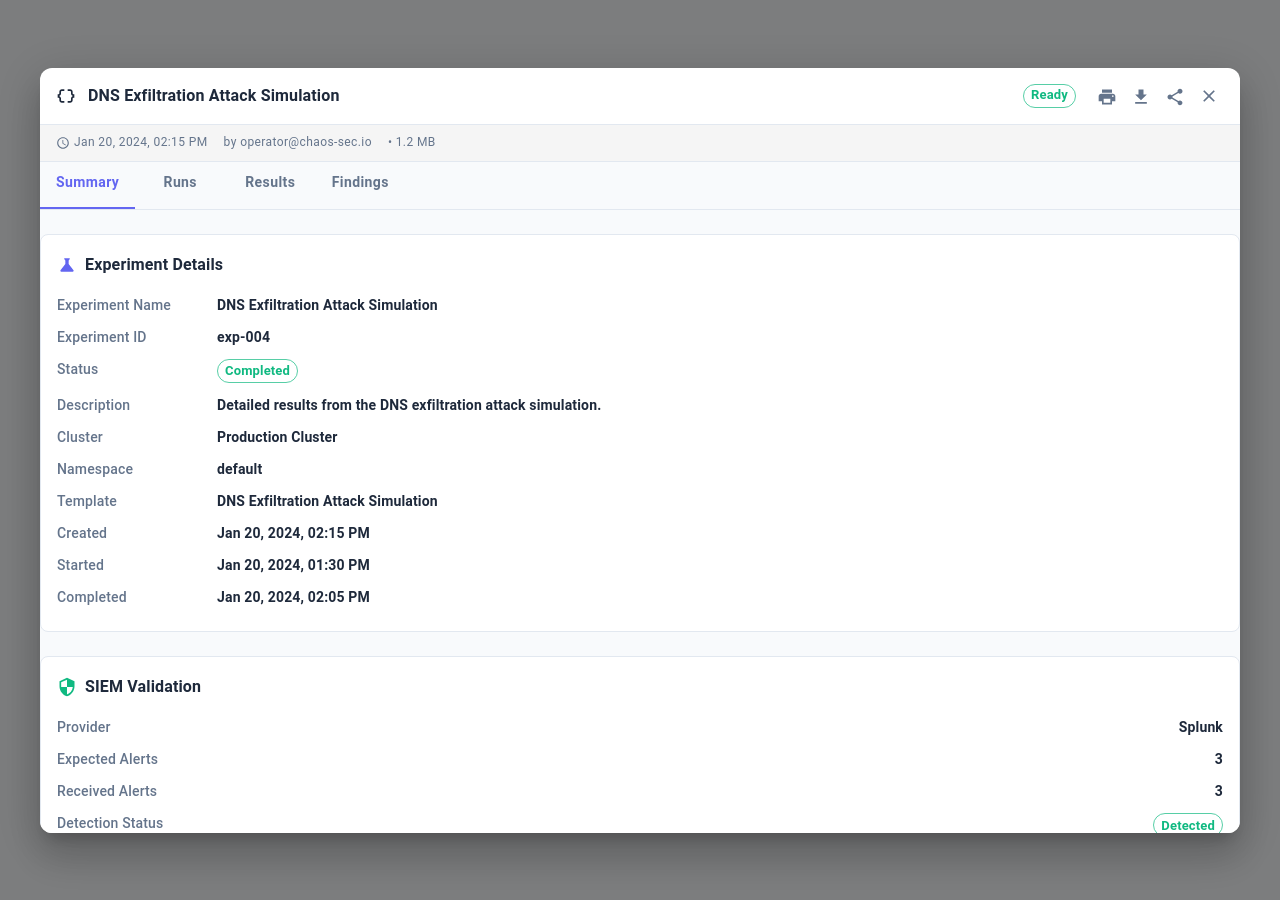
Test: ReportViewer › tab switching › shows findings list when Findings tab is selected
Expected: the tab "Summary" is shown, [40,162,135,204]
Click the tab "Findings" at point(360, 183), box [315,162,405,204]
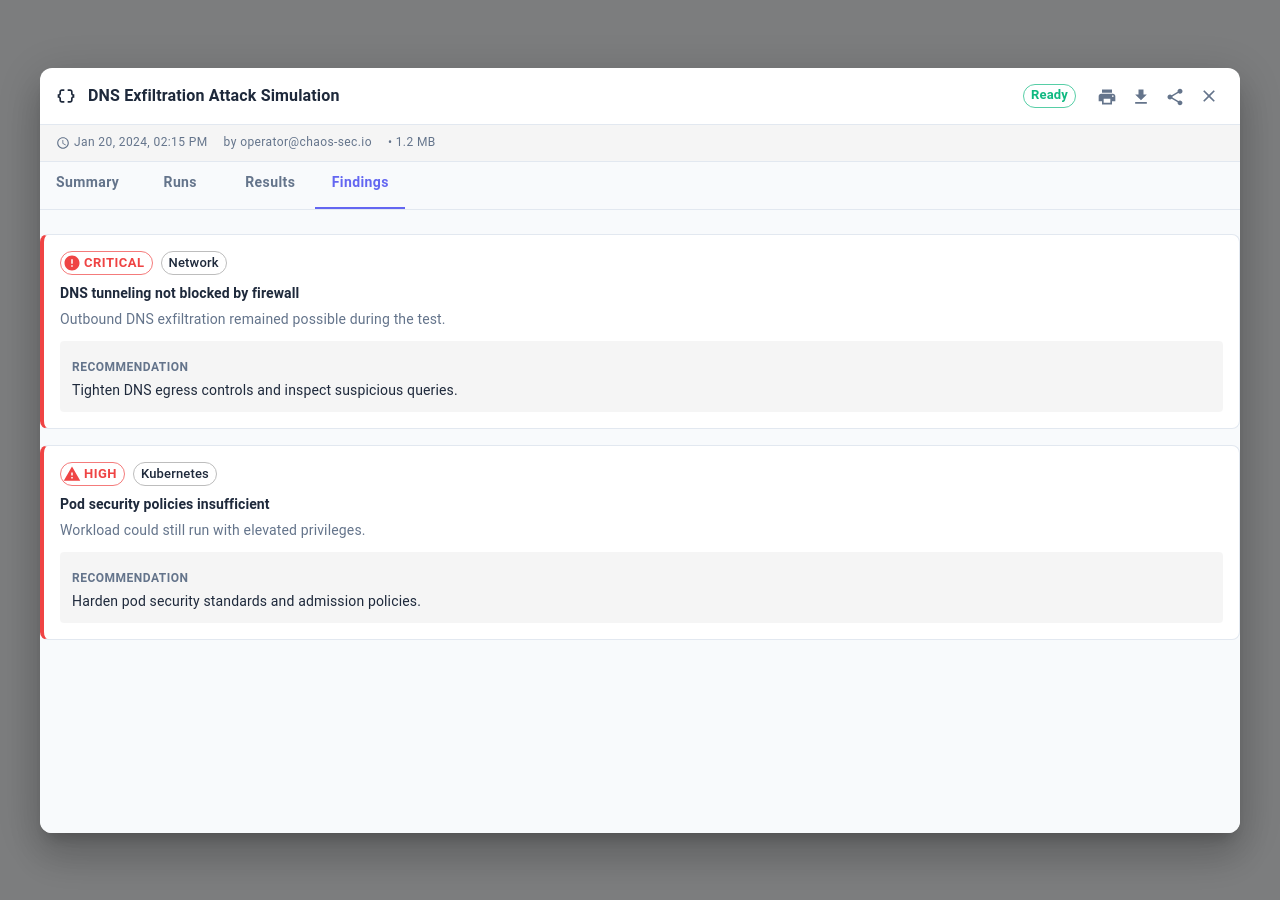
Now the heading "DNS tunneling not blocked by firewall" is shown, box [60,285,299,301]
Now the heading "Pod security policies insufficient" is shown, box [60,496,270,512]
Now the text "CRITICAL" is shown, box [84,255,145,270]
